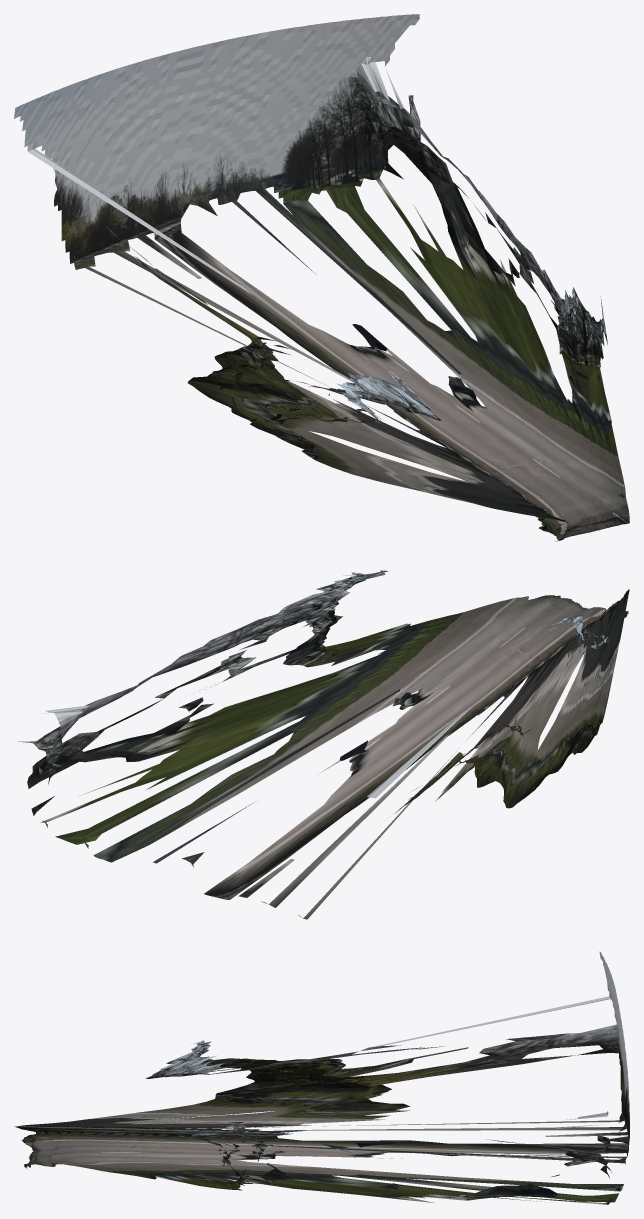
3 views of the same model, one above another, from view 1: azimuth 30°, elevation 25°; view 2: azimuth 150°, elevation 25°; view 3: azimuth 270°, elevation 25° (orthographic). The views are drawn at different scales.
Visible parts, largest first — view 1: defaultobject; view 2: defaultobject; view 3: defaultobject.
Boxes of the visible parts, bbox=[...] form: defaultobject: bbox=[14, 14, 629, 541]; defaultobject: bbox=[18, 570, 629, 919]; defaultobject: bbox=[14, 951, 629, 1204].
Size of the model in its own units: 25.29 by 11.68 by 45.37.
Materials: 1 (1 with a texture image).
